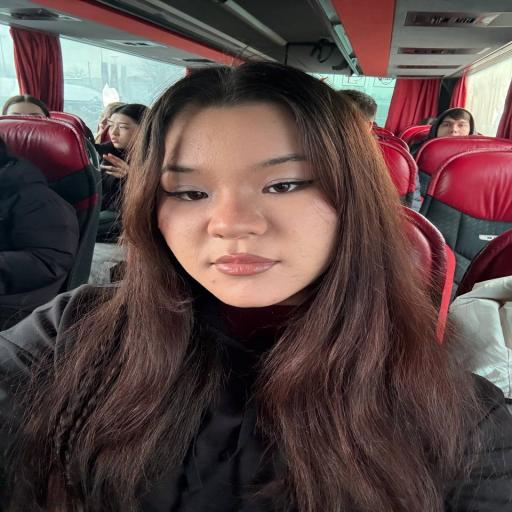crosswalk: (0, 62, 512, 512), (0, 139, 79, 330), (410, 108, 476, 156), (2, 94, 51, 118)
